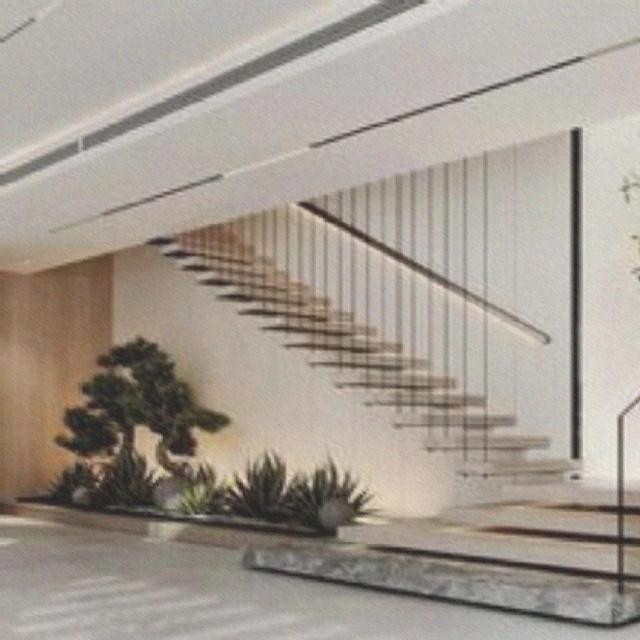stair: (218, 476, 638, 582)
